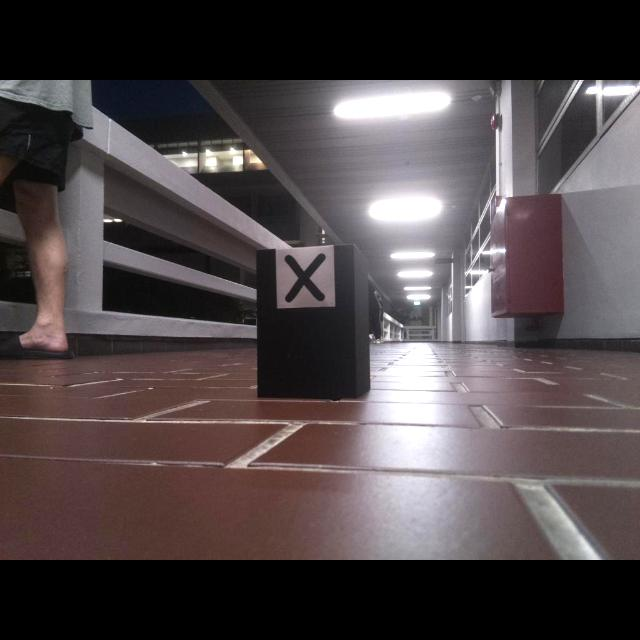X: (285, 254, 326, 302)
